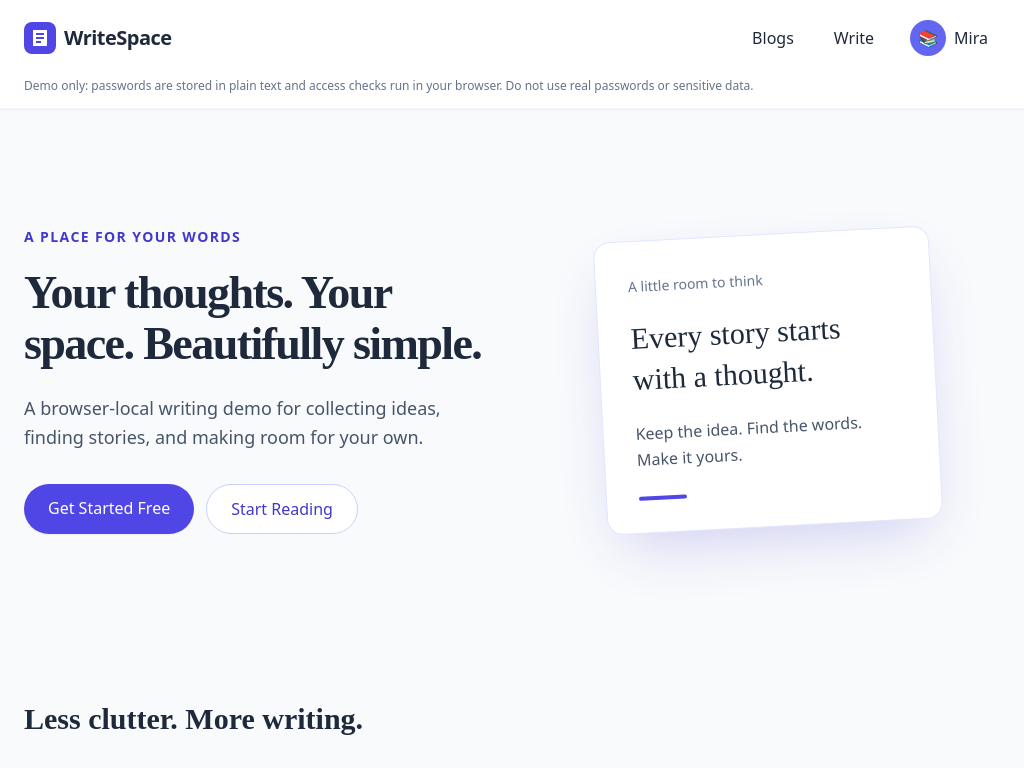
Test: preserves the authenticated App shell on failed logout at root
Click the button named "Mira account" at x=949, y=38, box [898,12,1000,64]
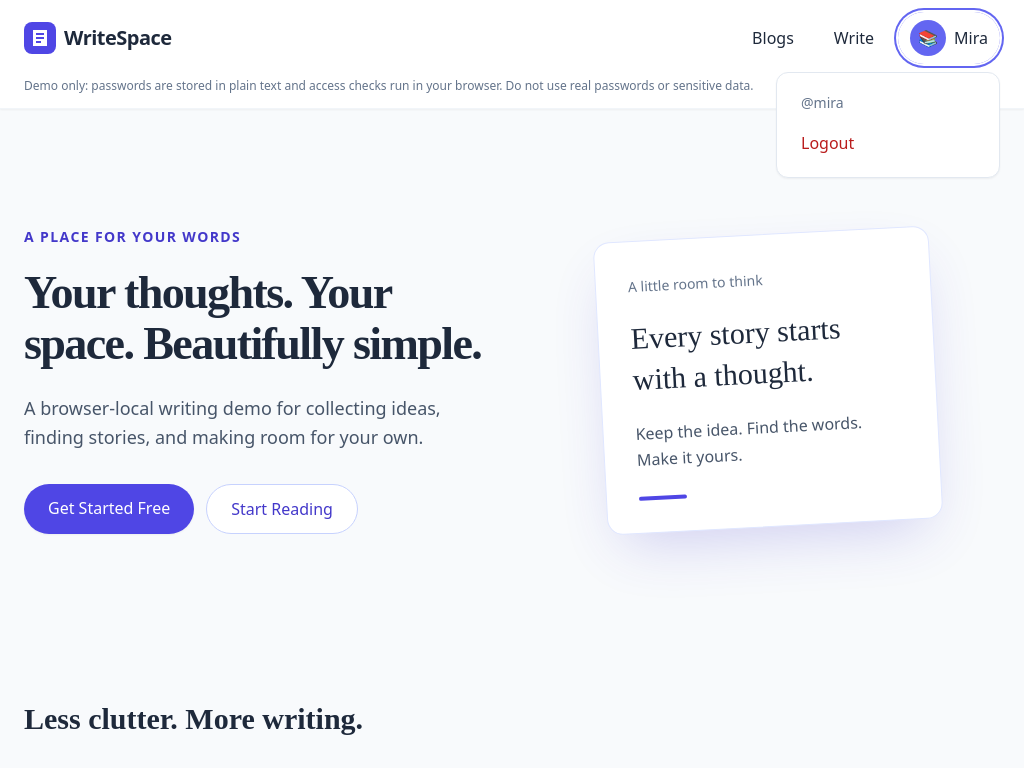
Click the button "Logout" at x=888, y=143, box [789,121,987,165]
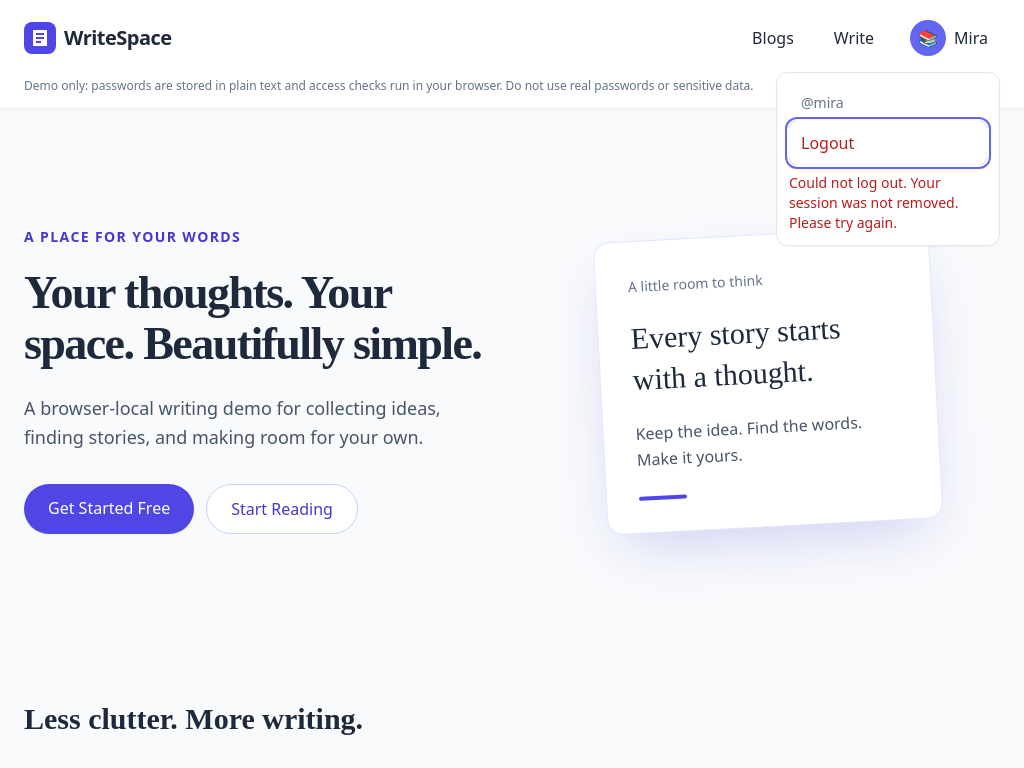
Expected: the navigation bar named "Account navigation" is shown, [0,0,1023,76]
Expected: the message shows "Could not log out.", [789,173,958,232]
